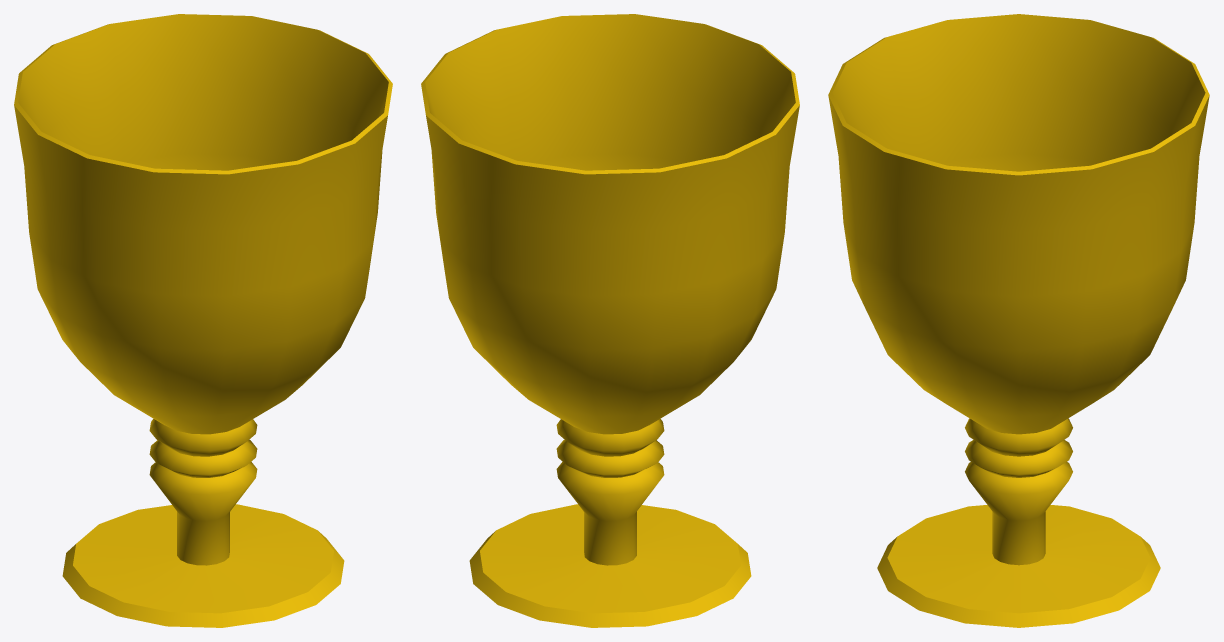
File: calice.glb
3 renders of one model, left to right at view 1: azimuth 30°, elevation 25°; view 2: azimuth 150°, elevation 25°; view 3: azimuth 270°, elevation 25°, orthographic.
Parts seen in each view (by area): view 1: calice; view 2: calice; view 3: calice.
Part boxes in pixels (x1,y1,x2,y2): calice: (14, 14, 392, 627); calice: (421, 14, 799, 627); calice: (828, 14, 1209, 627).
Bounding box in the file's own units: 2.17 × 2.99 × 2.17.
